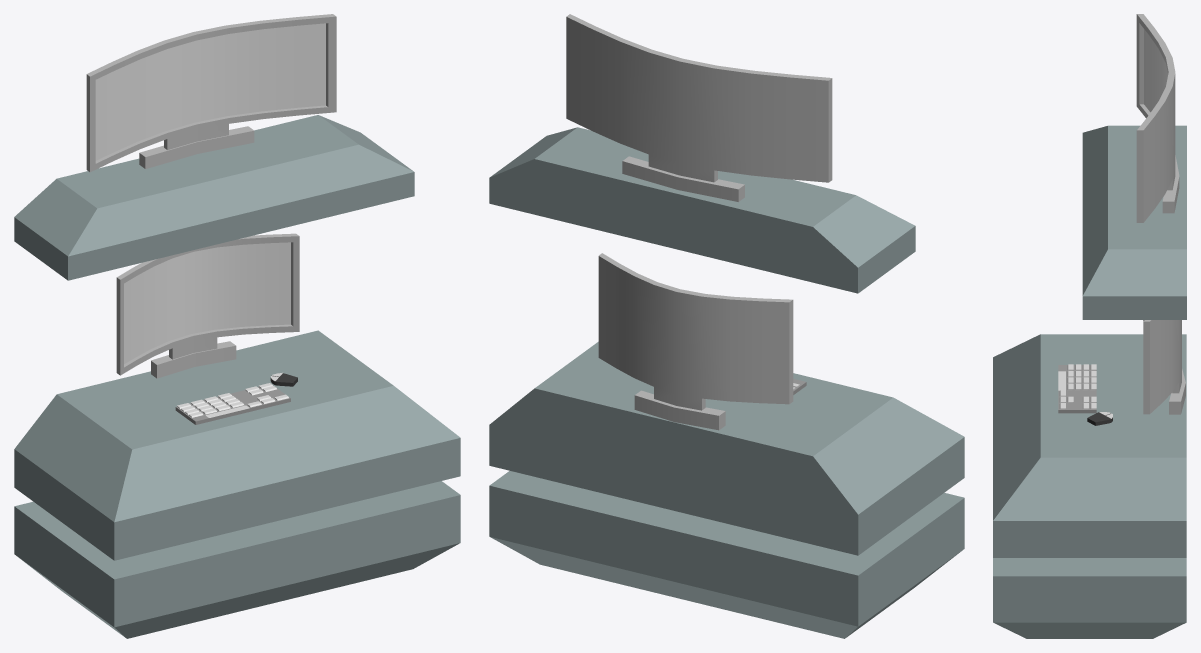
File: Living-Room-1-Computer-Table.fbx
3 renders of one model, left to right at view 1: azimuth 30°, elevation 25°; view 2: azimuth 150°, elevation 25°; view 3: azimuth 270°, elevation 25°, orthographic. The views are drawn at different scales.
Visible parts, largest first — view 1: Table, Shelf, Computer-Screen-2, Computer-Screen-1, Keyboard-2; view 2: Table, Shelf, Computer-Screen-2, Computer-Screen-1; view 3: Table, Shelf, Computer-Screen-2, Computer-Screen-1, Keyboard-2.
Boxes of the visible parts, x1,y1,x2,y2 form: Table: (14, 330, 460, 638); Shelf: (14, 115, 414, 280); Computer-Screen-2: (86, 14, 336, 172); Computer-Screen-1: (116, 233, 299, 378); Keyboard-2: (175, 383, 290, 424); Table: (489, 341, 964, 638); Shelf: (489, 127, 915, 293); Computer-Screen-2: (566, 14, 832, 201); Computer-Screen-1: (598, 253, 793, 430); Table: (993, 334, 1186, 638); Shelf: (1082, 125, 1186, 319); Computer-Screen-2: (1136, 14, 1179, 222); Computer-Screen-1: (1143, 320, 1185, 414); Keyboard-2: (1058, 364, 1096, 413).
Size of the model in its own units: 2.26 by 3.21 by 1.13.
